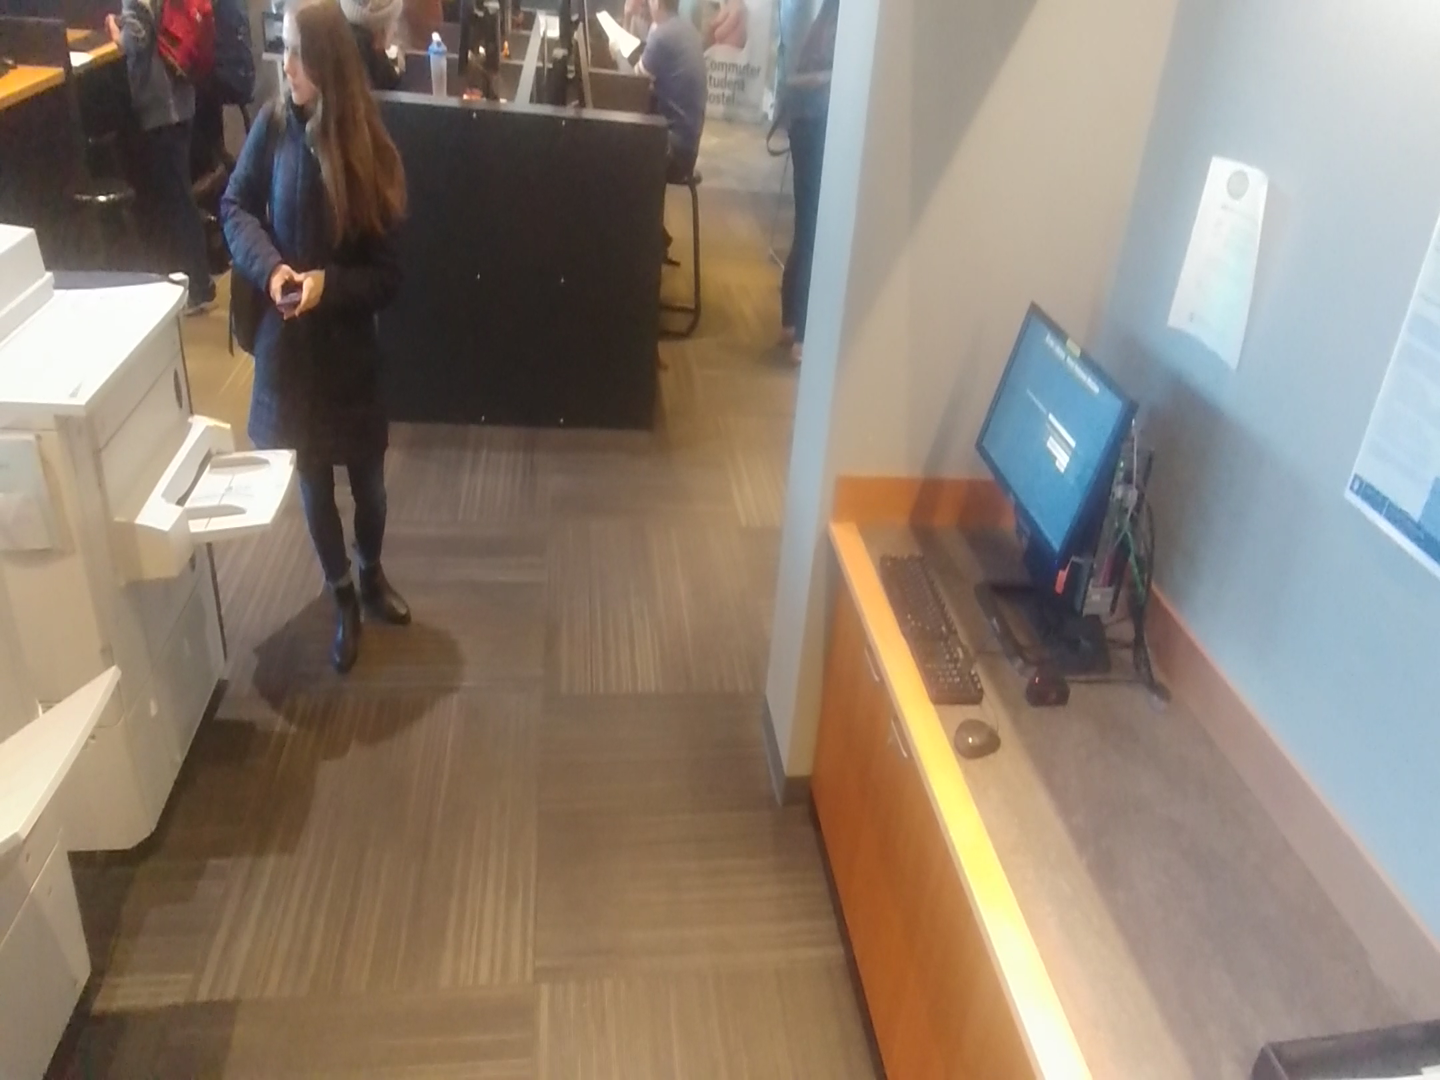face: (255, 0, 385, 141)
human: (215, 0, 459, 690), (91, 0, 232, 329), (623, 0, 726, 183)
